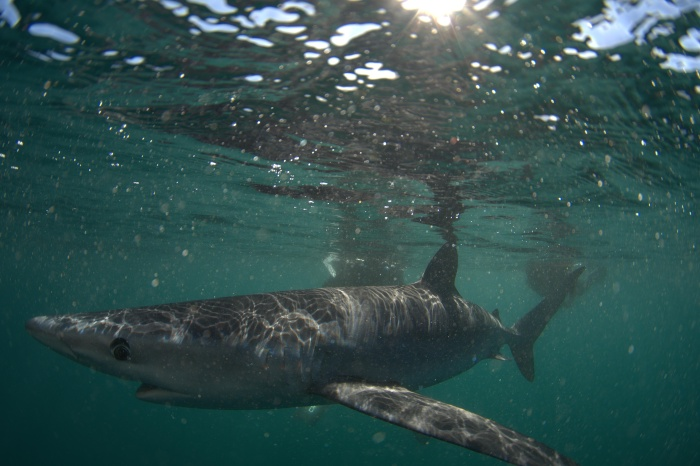Azul: (13, 233, 641, 466)
